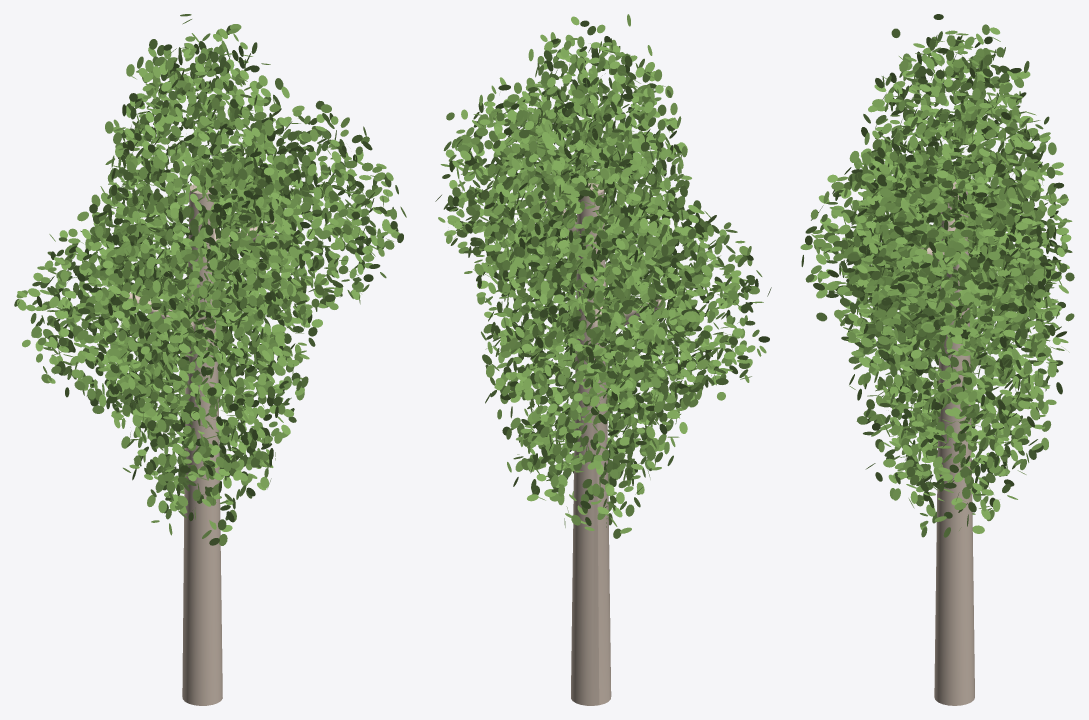
The model's file is Arbre5.fbx.
3 renders of one model, left to right at view 1: azimuth 30°, elevation 25°; view 2: azimuth 150°, elevation 25°; view 3: azimuth 270°, elevation 25°, orthographic.
Visible parts, largest first — view 1: Tree_05; view 2: Tree_05; view 3: Tree_05.
Boxes of the visible parts, x1,y1,x2,y2 form: Tree_05: (14,14,406,705); Tree_05: (435,14,771,705); Tree_05: (800,14,1074,705).
Size of the model in its own units: 19.31 by 36.39 by 13.47.
